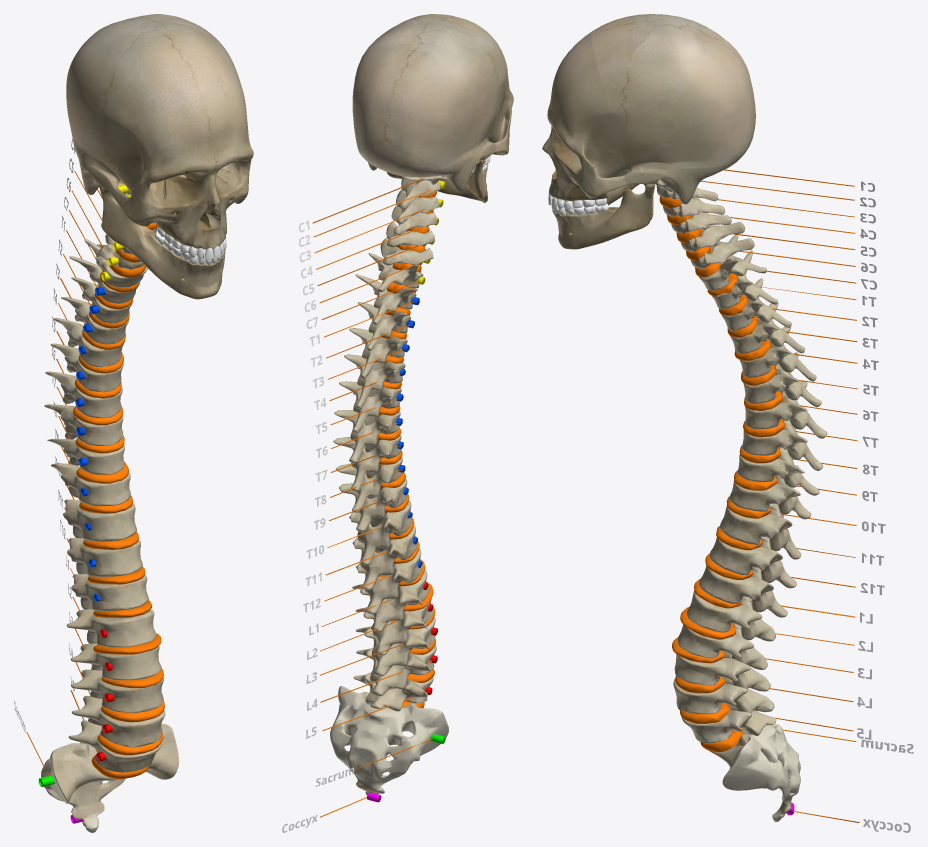
File: spine.glb
3 views of the same model, side by side, from view 1: azimuth 30°, elevation 25°; view 2: azimuth 150°, elevation 25°; view 3: azimuth 270°, elevation 25° (orthographic). The views are drawn at different scales.
Parts seen in each view (by area): view 1: Male_Skeletal_Skull_Geo_skull bones_0, Male_Skeletal_Atlas_Geo_bones back_0, Male_Skeletal_Intervertabral_Discs_Geo_discs_0, Male_Skeletal_Sacrum_Geo_bones sacrum_0, Male_Skeletal_Mandible_Geo_jawbones_0, Male_Skeletal_Upper_Central_Incisor_Left_Geo_vray Male_Skele, Cylinder027_markerThorasic_0, Text001_labels_0; view 2: Male_Skeletal_Atlas_Geo_bones back_0, Male_Skeletal_Skull_Geo_skull bones_0, Male_Skeletal_Sacrum_Geo_bones sacrum_0, Male_Skeletal_Intervertabral_Discs_Geo_discs_0, Text001_labels_0, Male_Skeletal_Mandible_Geo_jawbones_0, Cylinder027_markerThorasic_0; view 3: Male_Skeletal_Atlas_Geo_bones back_0, Male_Skeletal_Skull_Geo_skull bones_0, Male_Skeletal_Intervertabral_Discs_Geo_discs_0, Male_Skeletal_Sacrum_Geo_bones sacrum_0, Male_Skeletal_Mandible_Geo_jawbones_0, Text001_labels_0.
Boxes of the visible parts, bbox=[...] form: Male_Skeletal_Skull_Geo_skull bones_0: bbox=[66, 14, 253, 249]; Male_Skeletal_Atlas_Geo_bones back_0: bbox=[44, 183, 165, 772]; Male_Skeletal_Intervertabral_Discs_Geo_discs_0: bbox=[26, 171, 164, 778]; Male_Skeletal_Sacrum_Geo_bones sacrum_0: bbox=[41, 723, 178, 832]; Male_Skeletal_Mandible_Geo_jawbones_0: bbox=[99, 185, 225, 299]; Male_Skeletal_Upper_Central_Incisor_Left_Geo_vray Male_Skele: bbox=[172, 238, 226, 265]; Cylinder027_markerThorasic_0: bbox=[75, 287, 105, 602]; Text001_labels_0: bbox=[14, 139, 75, 733]; Male_Skeletal_Atlas_Geo_bones back_0: bbox=[333, 175, 448, 711]; Male_Skeletal_Skull_Geo_skull bones_0: bbox=[352, 14, 513, 191]; Male_Skeletal_Sacrum_Geo_bones sacrum_0: bbox=[330, 686, 448, 794]; Male_Skeletal_Intervertabral_Discs_Geo_discs_0: bbox=[312, 178, 436, 817]; Text001_labels_0: bbox=[282, 220, 354, 832]; Male_Skeletal_Mandible_Geo_jawbones_0: bbox=[386, 160, 487, 202]; Cylinder027_markerThorasic_0: bbox=[396, 297, 422, 567]; Male_Skeletal_Atlas_Geo_bones back_0: bbox=[656, 185, 827, 743]; Male_Skeletal_Skull_Geo_skull bones_0: bbox=[542, 14, 755, 204]; Male_Skeletal_Intervertabral_Discs_Geo_discs_0: bbox=[659, 169, 859, 822]; Male_Skeletal_Sacrum_Geo_bones sacrum_0: bbox=[709, 710, 800, 822]; Male_Skeletal_Mandible_Geo_jawbones_0: bbox=[552, 184, 654, 249]; Text001_labels_0: bbox=[857, 181, 913, 832].
Bounding box in the file's own units: 0.2039 × 1.2 × 0.5053.
12 materials, 4 textured.
